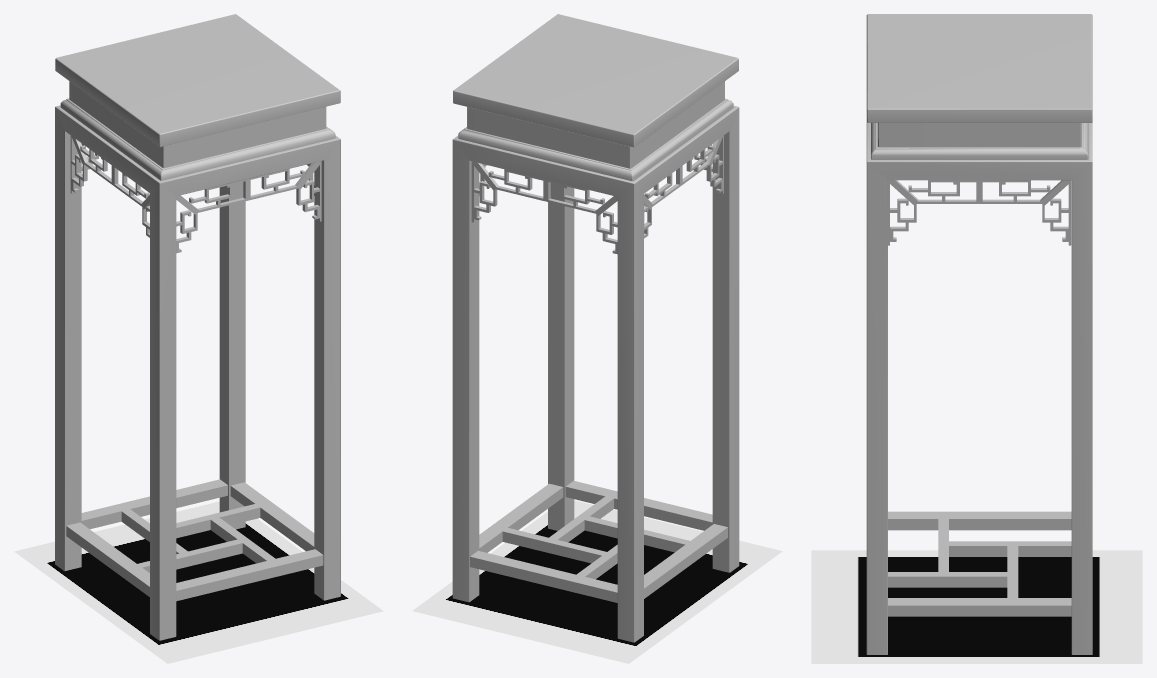
Rendered from cheer001.dae.
The picture shows the model from 3 angles, left to right: view 1: azimuth 30°, elevation 25°; view 2: azimuth 150°, elevation 25°; view 3: azimuth 270°, elevation 25°; orthographic projection. The views are drawn at different scales.
Parts seen in each view (by area): view 1: cheer001_ld, sd_cheer001_ld; view 2: cheer001_ld, sd_cheer001_ld; view 3: cheer001_ld, sd_cheer001_ld.
Boxes of the visible parts, x1=… form: cheer001_ld: x1=55, y1=14, x2=340, y2=640; sd_cheer001_ld: x1=14, y1=501, x2=383, y2=663; cheer001_ld: x1=452, y1=14, x2=739, y2=642; sd_cheer001_ld: x1=412, y1=500, x2=782, y2=663; cheer001_ld: x1=866, y1=14, x2=1092, y2=654; sd_cheer001_ld: x1=811, y1=550, x2=1142, y2=663.
Bounding box in the file's own units: 0.4049 × 0.9064 × 0.4982.
